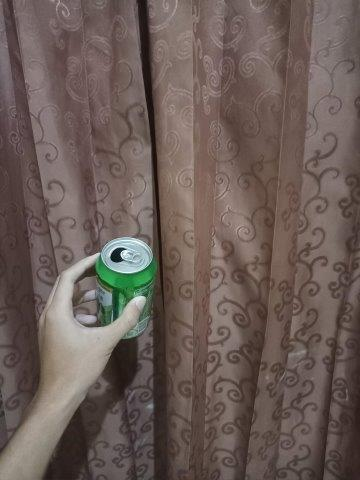kaleng: (97, 236, 157, 340)
